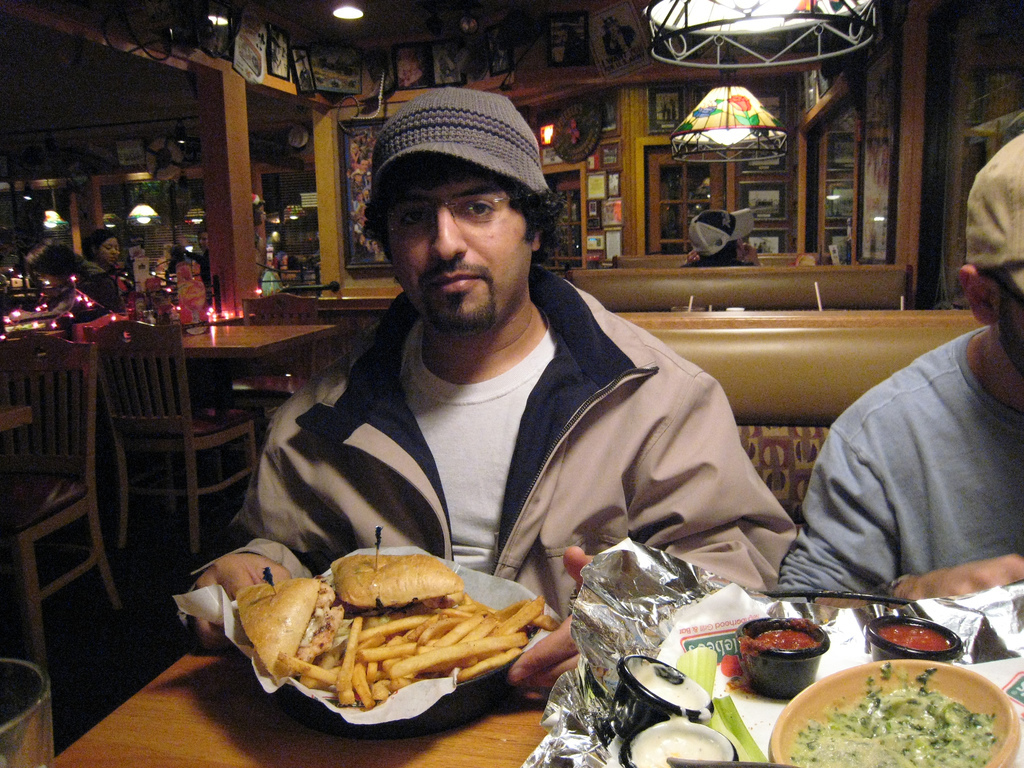French fries: (241, 552, 515, 724)
